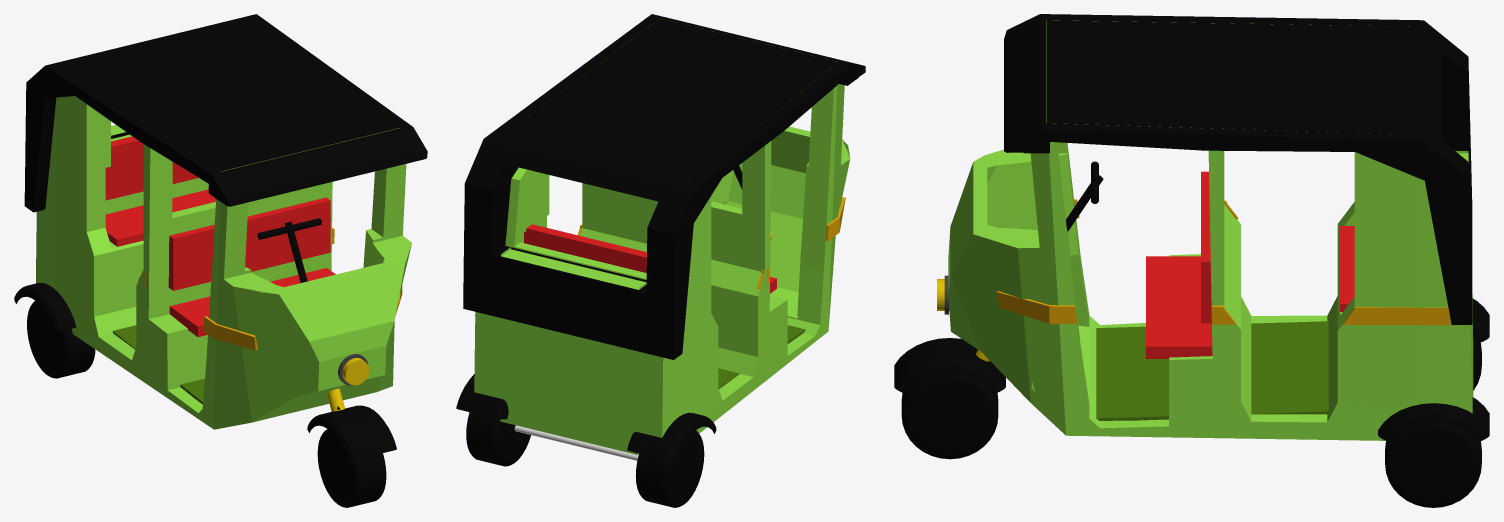
Rendered from rickshaw.fbx.
3 renders of one model, left to right at view 1: azimuth 30°, elevation 25°; view 2: azimuth 150°, elevation 25°; view 3: azimuth 270°, elevation 25°, orthographic. The views are drawn at different scales.
Visible parts, largest first — view 1: Cube, Cube.003, Cube.001, Cylinder.007, Cylinder, Cylinder.004, Cube.005, Cube.004, Cube.002, Cube.008, Cube.007, Cylinder.001 (+2 smaller); view 2: Cube.003, Cube, Cylinder.004, Cylinder.007, Cube.005, Cylinder.006, Cylinder.003, Cube.008, Cube.007; view 3: Cube, Cube.003, Cube.007, Cylinder.007, Cylinder.006, Cylinder, Cube.002, Cube.006, Cube.001, Cube.004.
Part boxes in pixels (box(x1,y1,x2,y2)): Cube: box(36, 96, 411, 429); Cube.003: box(24, 14, 427, 212); Cube.001: box(168, 197, 330, 290); Cylinder.007: box(14, 282, 396, 460); Cylinder: box(317, 429, 386, 507); Cylinder.004: box(27, 301, 95, 378); Cube.005: box(105, 136, 198, 200); Cube.004: box(105, 189, 216, 246); Cube.002: box(169, 268, 335, 337); Cube.008: box(138, 269, 257, 350); Cube.007: box(112, 325, 204, 404); Cylinder.001: box(342, 358, 369, 385); Cube.003: box(463, 14, 865, 359); Cube: box(474, 40, 850, 454); Cylinder.004: box(636, 430, 704, 507); Cylinder.007: box(456, 374, 716, 461); Cube.005: box(524, 224, 646, 272); Cylinder.006: box(466, 412, 531, 466); Cylinder.003: box(514, 425, 638, 460); Cube.008: box(656, 197, 845, 361); Cube.007: box(718, 325, 805, 388); Cube: box(948, 20, 1473, 440); Cube.003: box(1004, 14, 1472, 324); Cube.007: box(1096, 321, 1328, 420); Cylinder.007: box(894, 298, 1489, 442); Cylinder.006: box(1385, 421, 1481, 507); Cylinder: box(901, 373, 998, 459); Cube.002: box(1146, 256, 1212, 358); Cube.006: box(996, 291, 1470, 325); Cube.001: box(1201, 171, 1211, 323); Cube.004: box(1340, 226, 1354, 311).
Bounding box in the file's own units: 167 × 233 × 331.
